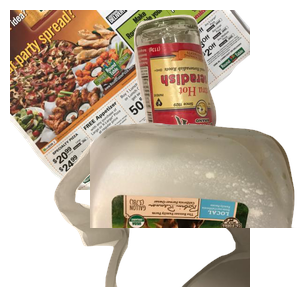glass: (131, 12, 300, 170)
paper: (10, 10, 250, 190)
plastic: (90, 120, 300, 300)
trash: (51, 120, 291, 300)
